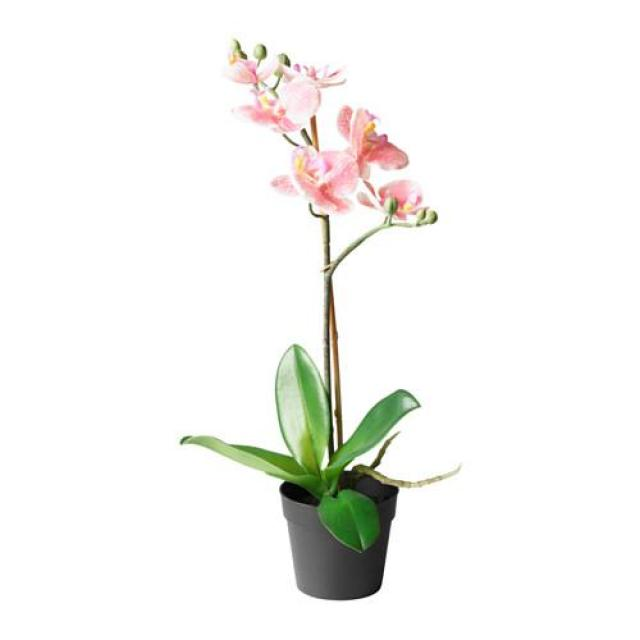plant pot: (183, 347, 421, 603)
